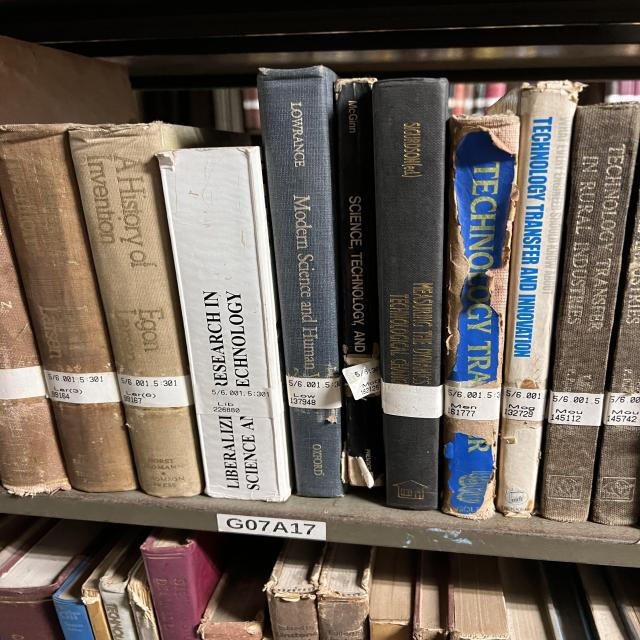Book: (68, 122, 248, 498), (0, 124, 137, 491), (158, 148, 290, 501), (540, 104, 640, 522), (488, 81, 583, 518), (258, 66, 345, 498), (373, 79, 447, 510), (442, 115, 520, 519), (335, 79, 383, 488)
Label: (195, 377, 278, 418), (43, 370, 120, 404), (117, 374, 193, 408), (382, 381, 443, 419), (445, 385, 502, 420), (548, 391, 603, 426), (287, 376, 342, 409), (342, 360, 382, 400), (502, 386, 547, 421)
